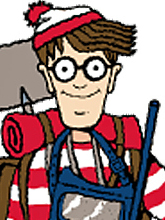waldo: (24, 1, 130, 129)
